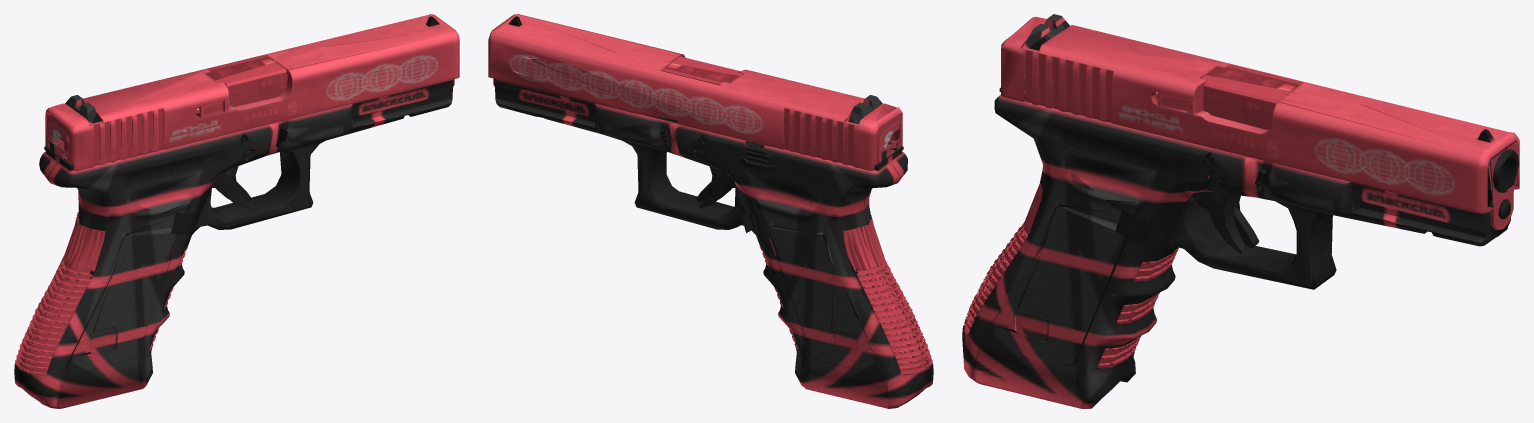
File: combatpistol_skin.glb
3 views of the same model, side by side, from view 1: azimuth 30°, elevation 25°; view 2: azimuth 150°, elevation 25°; view 3: azimuth 330°, elevation 25° (orthographic). The views are drawn at different scales.
Parts seen in each view (by area): view 1: Gun_Root; view 2: Gun_Root; view 3: Gun_Root.
Boxes of the visible parts, x1,y1,x2,y2 form: Gun_Root: [14, 14, 459, 408]; Gun_Root: [488, 14, 933, 408]; Gun_Root: [962, 14, 1519, 408].
Bounding box in the file's own units: 0.2132 × 0.135 × 0.0315.
3 materials, 3 textured.
